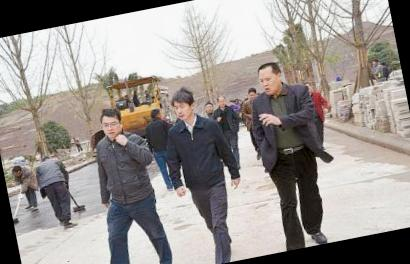no_helmet: (252, 56, 288, 96), (169, 84, 202, 125), (96, 104, 128, 139), (148, 106, 166, 124), (215, 92, 231, 110), (245, 84, 260, 102), (202, 99, 216, 116)
